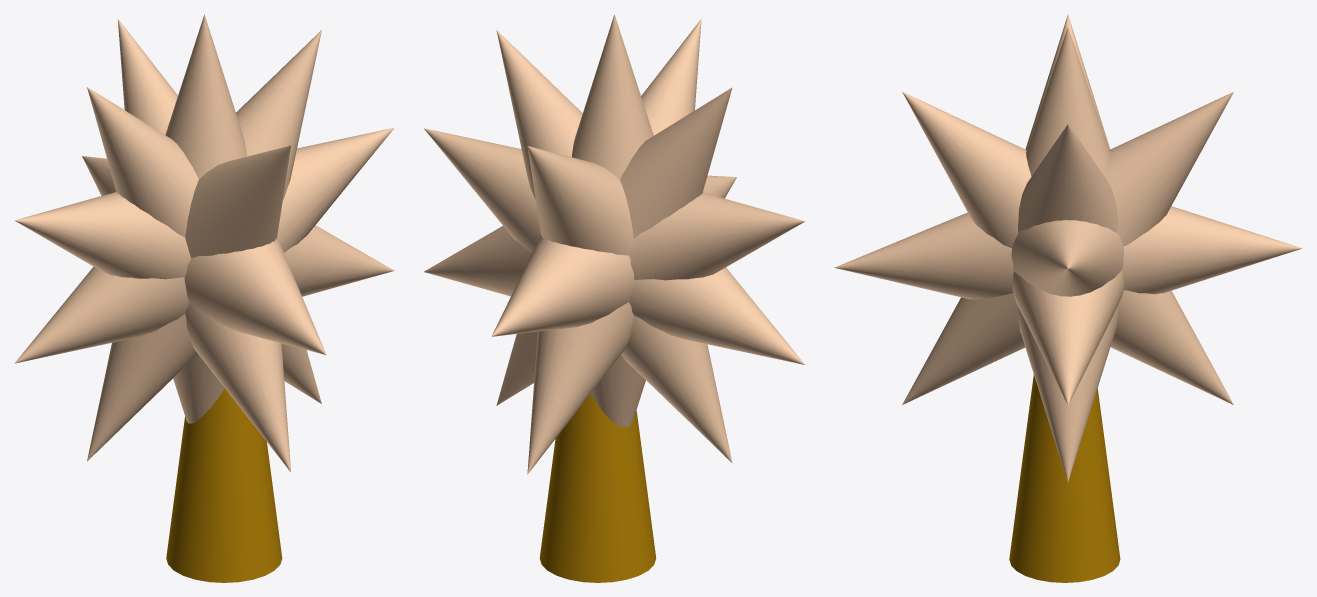
File: SurpriseLv2.glb
3 views of the same model, side by side, from view 1: azimuth 30°, elevation 25°; view 2: azimuth 150°, elevation 25°; view 3: azimuth 270°, elevation 25° (orthographic). The views are drawn at different scales.
Visible parts, largest first — view 1: Cone219 (×27), Batang019; view 2: Cone219 (×34), Batang019; view 3: Cone219 (×25), Batang019.
Boxes of the visible parts, <box> form: Cone219 (×27): <box>14,14,394,472</box>; Batang019: <box>166,388,282,582</box>; Cone219 (×34): <box>424,14,804,474</box>; Batang019: <box>539,393,656,582</box>; Cone219 (×25): <box>834,14,1302,481</box>; Batang019: <box>1009,374,1120,582</box>.
Size of the model in its own units: 0.7606 by 1.05 by 0.8476.
